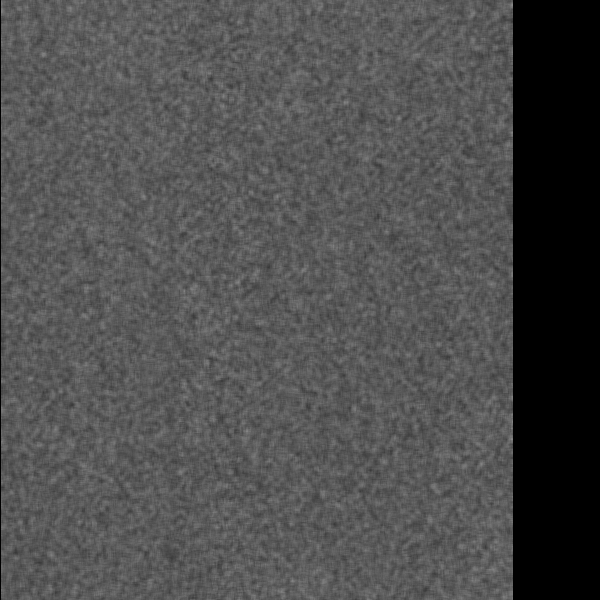spark: (107, 330, 152, 387), (393, 289, 414, 324)
